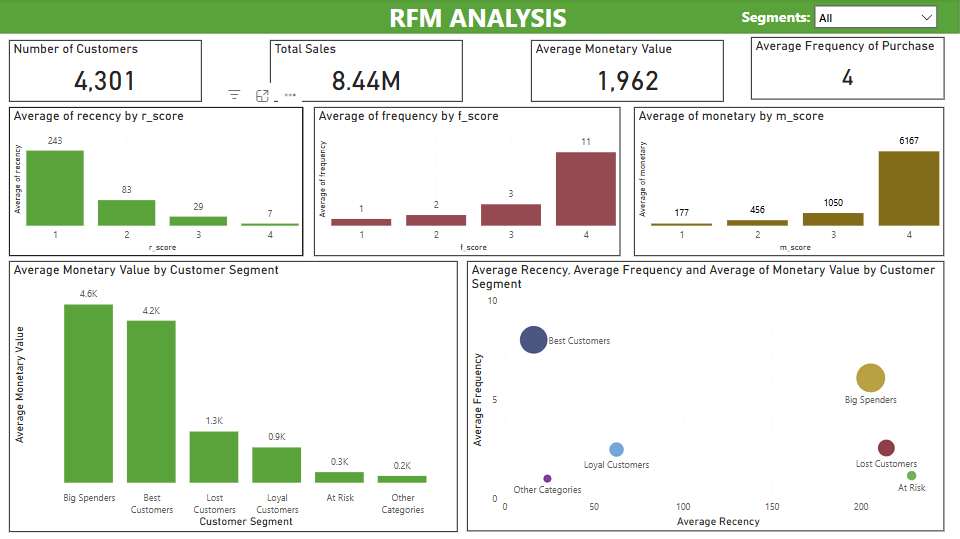

The dashboard page shown, as its layout file describes it:
{"tool":"powerbi","page":{"name":"Page 1","canvas":[1280,720],"ordinal":0},"visuals":[{"type":"card","title":"Number of Customers","fields":{"Values":["rfm.cust_cnt"]},"box":[17.4,55.8,256,82],"z":0},{"type":"card","title":"Total Sales","fields":{"Values":["Sum(rfm.monetary)"]},"box":[363.7,55.8,256,82],"z":1000},{"type":"card","title":"Average Monetary Value","fields":{"Values":["Avg(rfm.monetary)"]},"box":[710.5,55.8,256,82],"z":2000},{"type":"card","title":"Average Frequency of Purchase","fields":{"Values":["Avg(rfm.frequency)"]},"box":[1002.3,51.2,257,82.6],"z":3000},{"type":"clusteredColumnChart","fields":{"Category":["rfm.r_score"],"Y":["Avg(rfm.recency)"]},"box":[17.4,145.3,390.7,197.7],"z":4000},{"type":"clusteredColumnChart","fields":{"Category":["rfm.f_score"],"Y":["Avg(rfm.frequency)"]},"box":[422.1,145.3,407,197.7],"z":5000},{"type":"clusteredColumnChart","fields":{"Category":["rfm.m_score"],"Y":["Avg(rfm.monetary)"]},"box":[847.7,145.3,411.6,197.7],"z":6000},{"type":"clusteredColumnChart","fields":{"Category":["rfm.customer_segment"],"Y":["Avg(rfm.monetary)"]},"box":[17.4,349.6,595.9,359.5],"z":7000},{"type":"shape","box":[0,0,1280,47.3],"z":9000},{"type":"slicer","fields":{"Values":["rfm.customer_segment"]},"box":[1076.7,0,182.6,47.7],"z":10000},{"type":"textbox","box":[986,7,112.8,40.7],"z":11000},{"type":"scatterChart","title":"Average Recency, Average Frequency and Average of Monetary Value by Customer Segment","fields":{"X":["Avg(rfm.recency)"],"Y":["Avg(rfm.frequency)"],"Category":["rfm.customer_segment"],"Series":["rfm.customer_segment"],"Size":["Avg(rfm.monetary)"]},"box":[625.6,350,633.7,359.3],"z":11001}]}

Visuals, with their boxes in screenshot pixels (x1, y1, x2, y2), scaled from the page's 1280x720 canvas onto the 960x539 screenshot:
"Number of Customers" card: bbox=(13, 42, 205, 103)
"Total Sales" card: bbox=(273, 42, 465, 103)
"Average Monetary Value" card: bbox=(533, 42, 725, 103)
"Average Frequency of Purchase" card: bbox=(752, 38, 944, 100)
clusteredColumnChart - rfm.r_score x Avg(rfm.recency): bbox=(13, 109, 306, 257)
clusteredColumnChart - rfm.f_score x Avg(rfm.frequency): bbox=(317, 109, 622, 257)
clusteredColumnChart - rfm.m_score x Avg(rfm.monetary): bbox=(636, 109, 944, 257)
clusteredColumnChart - rfm.customer_segment x Avg(rfm.monetary): bbox=(13, 262, 460, 531)
shape: bbox=(0, 0, 959, 35)
slicer - rfm.customer_segment: bbox=(808, 0, 944, 36)
textbox: bbox=(740, 5, 824, 36)
"Average Recency, Average Frequency and Average of Monetary Value by Customer Segment" scatterChart: bbox=(469, 262, 944, 531)
